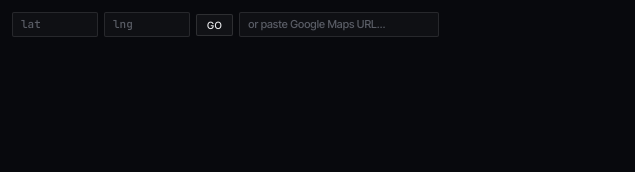
it: CoordInput › shows coord-error when an invalid URL is typed into the URL input
This screenshot has width=635, height=172.
Type "https://www.example.com/notamaps" into the field with test id "maps-url-input". click: (339, 25)
box: top-left (239, 12), bottom-right (439, 37)
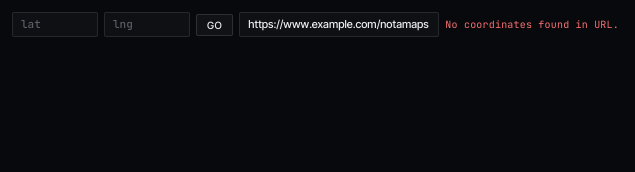
Result: the message "No coordinates found in URL." is shown at top-left (445, 17), bottom-right (619, 32)
